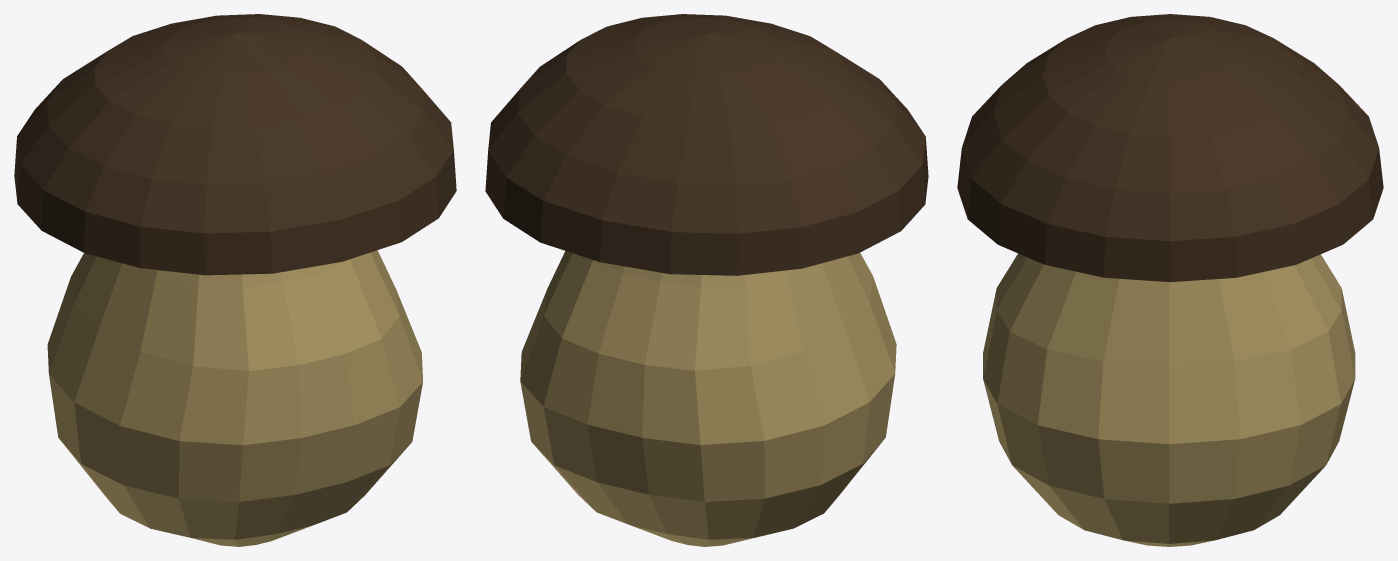
The model's file is Prawdziwek.fbx.
3 renders of one model, left to right at view 1: azimuth 30°, elevation 25°; view 2: azimuth 150°, elevation 25°; view 3: azimuth 270°, elevation 25°, orthographic.
Visible parts, largest first — view 1: Prawdziwek; view 2: Prawdziwek; view 3: Prawdziwek.
Part boxes in pixels (x1,y1,x2,y2): Prawdziwek: (14,14,456,546); Prawdziwek: (485,14,928,546); Prawdziwek: (957,14,1383,546).
Bounding box in the file's own units: 17.07 × 20.57 × 16.31.
Materials: 1 (1 with a texture image).
